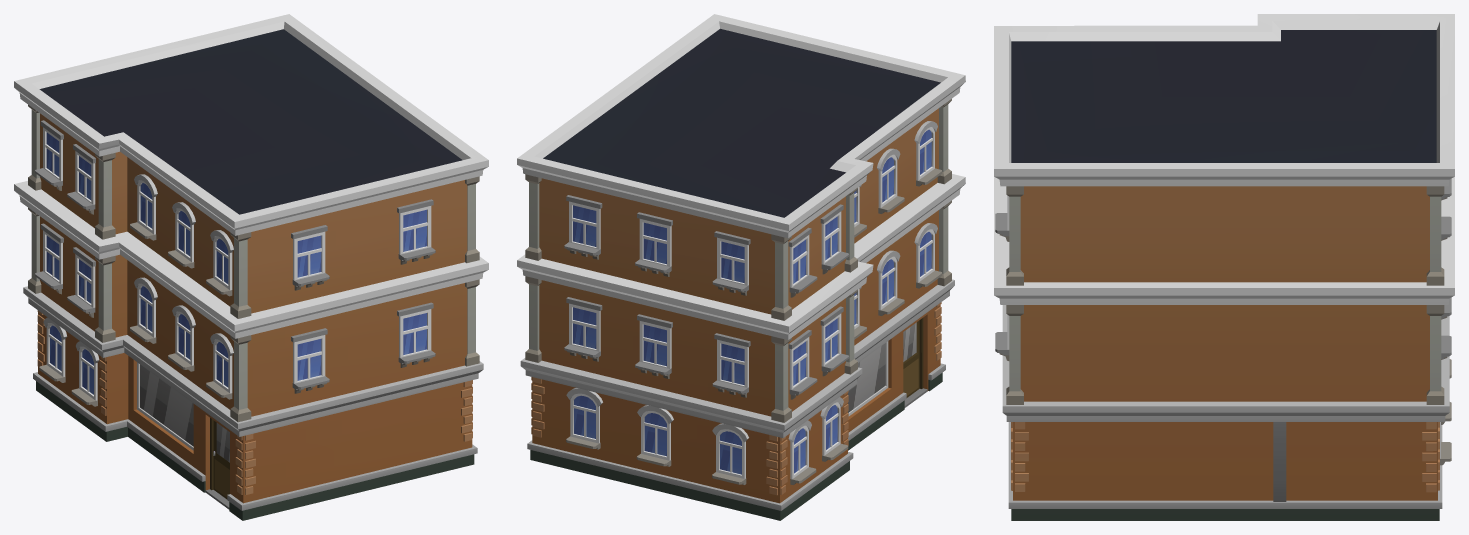
File: Building_1_3_L.fbx
The picture shows the model from 3 angles, left to right: view 1: azimuth 30°, elevation 25°; view 2: azimuth 150°, elevation 25°; view 3: azimuth 270°, elevation 25°; orthographic projection. The views are drawn at different scales.
Visible parts, largest first — view 1: Building_1_3_L; view 2: Building_1_3_L; view 3: Building_1_3_L.
Part boxes in pixels (box(x1,y1,x2,y2)): Building_1_3_L: box(14, 14, 488, 520); Building_1_3_L: box(517, 14, 965, 520); Building_1_3_L: box(994, 14, 1454, 520).
Bounding box in the file's own units: 841 × 900 × 1057.
